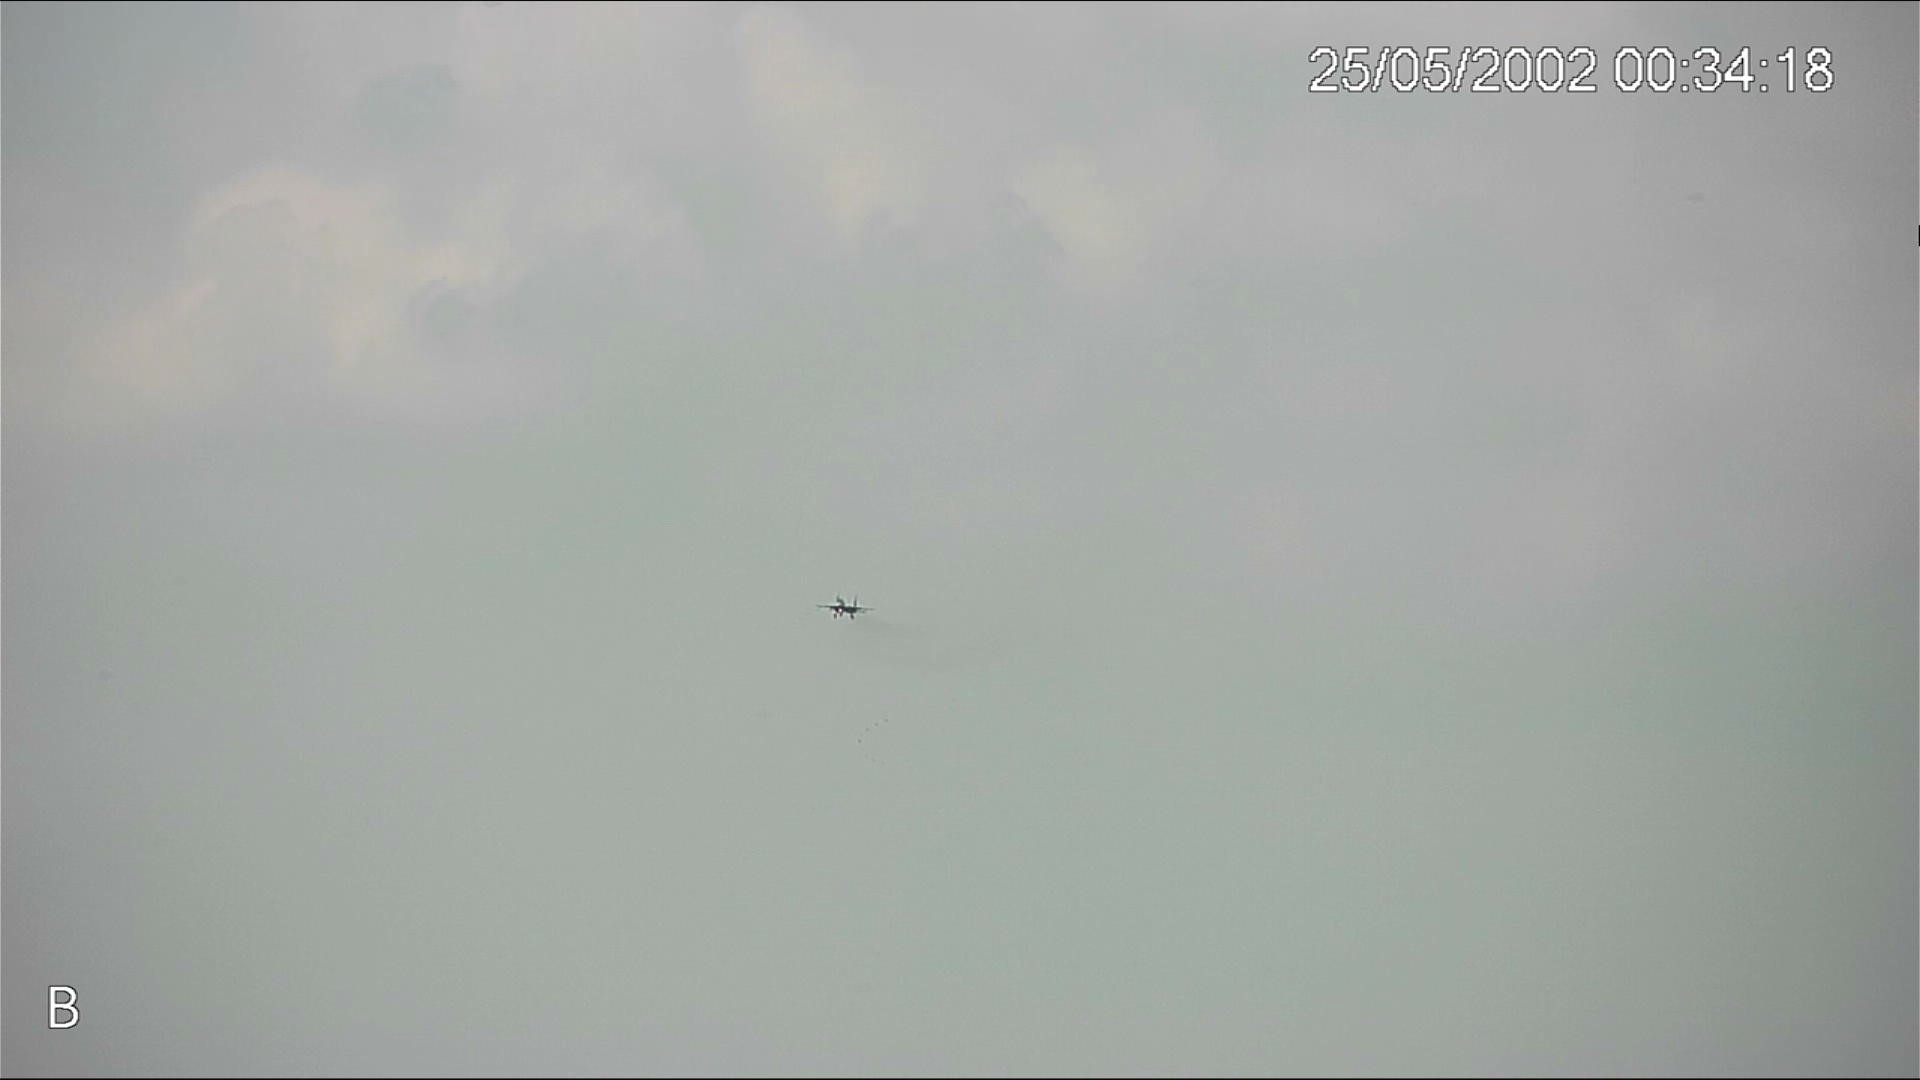SU_30: (814, 589, 872, 626)
